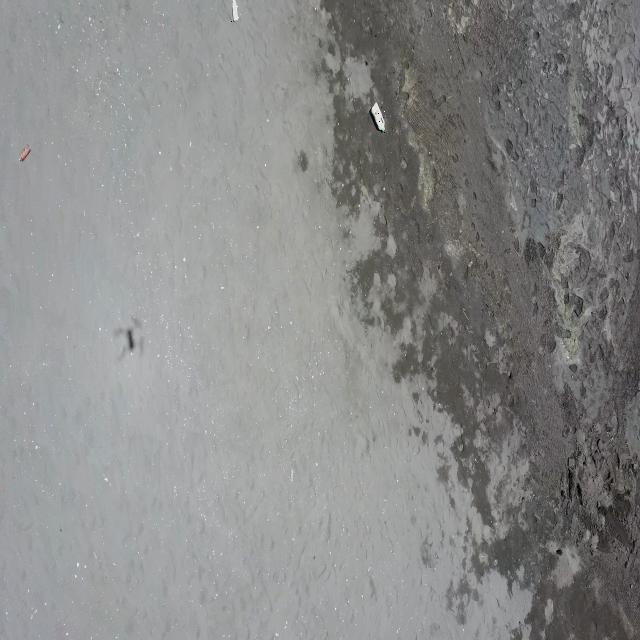plastic-bottle: (371, 102, 385, 133), (231, 0, 239, 24)
